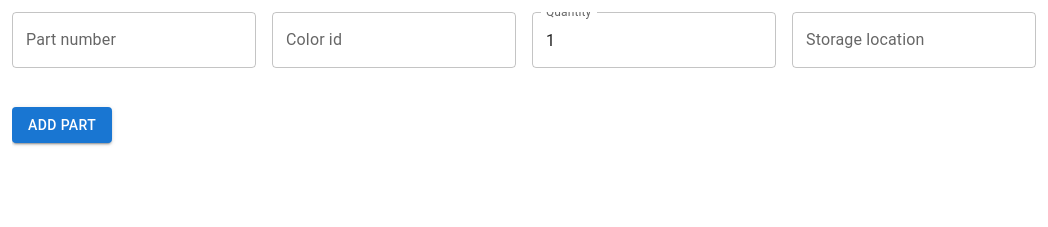
Test: AddPartToCollectionForm › shows an alert when the part is not in the catalog
This screenshot has width=1048, height=227.
Type "9999" into the field labelled "Part number" at (134, 40), box top-left (12, 12), bottom-right (256, 68)
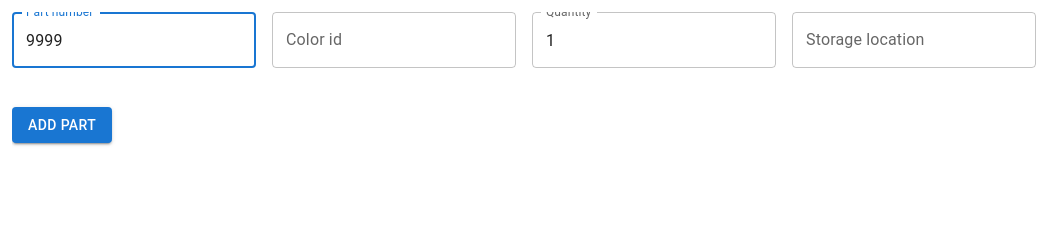
Type "4" into the number field labelled "Color id" at (394, 40), box top-left (272, 12), bottom-right (516, 68)
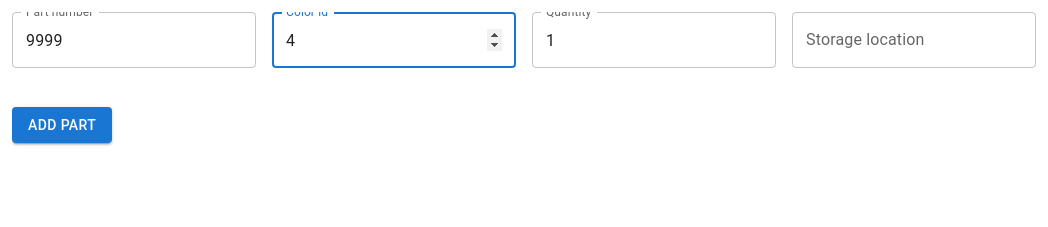
Click the button "Add part" at (62, 125), box top-left (12, 107), bottom-right (112, 143)
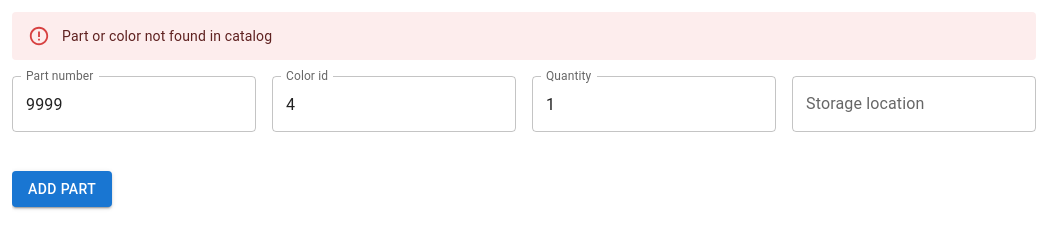
Expected: the message shows "not found in catalog", top-left (62, 28), bottom-right (272, 44)
